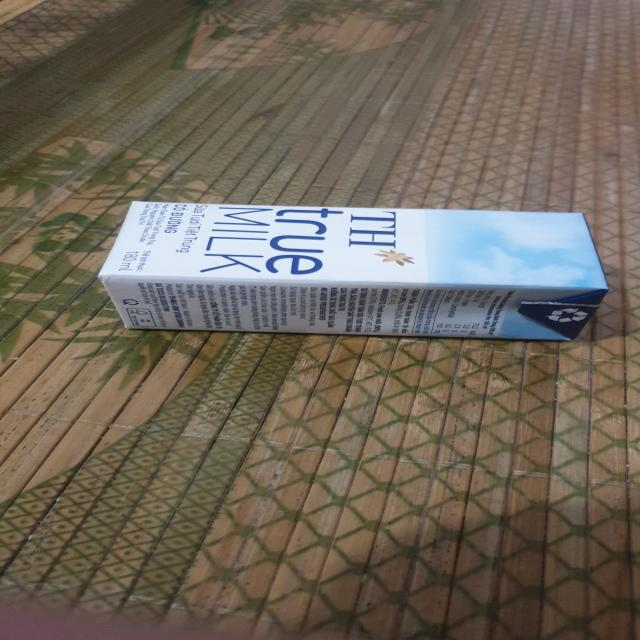TH: (94, 201, 611, 342)
